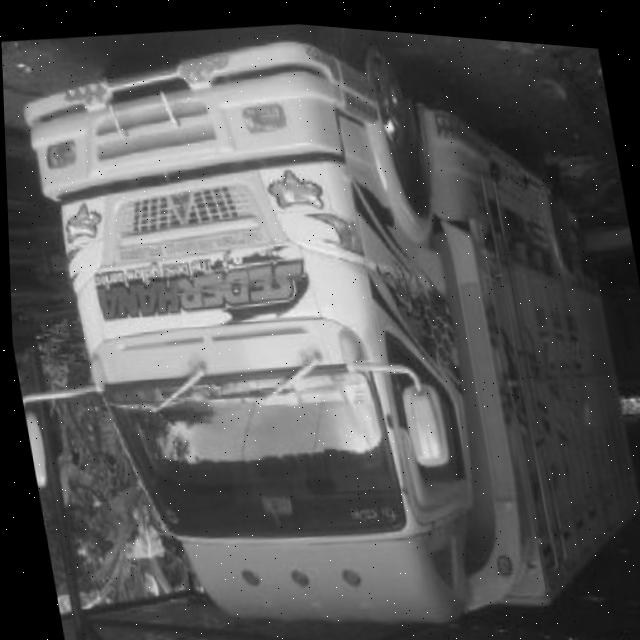truck: (1, 1, 546, 640)
